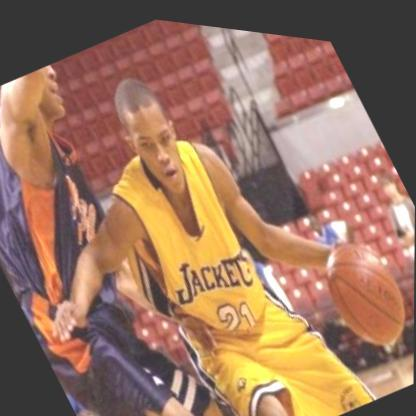basketball: (297, 201, 415, 361)
